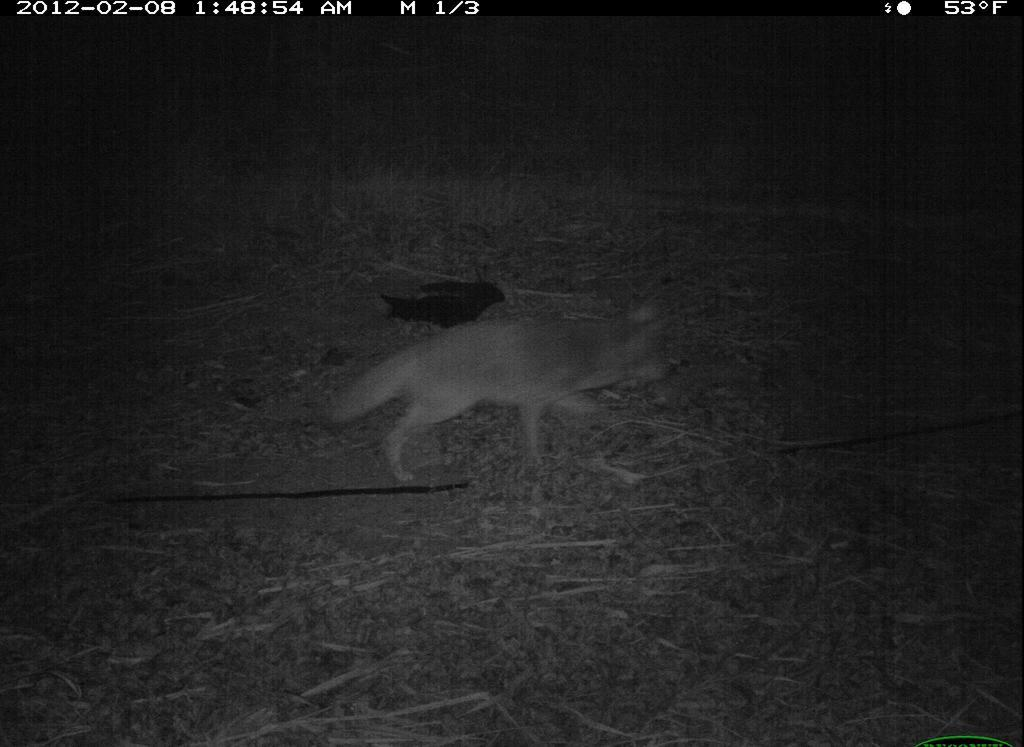coyote: (306, 278, 703, 507)
